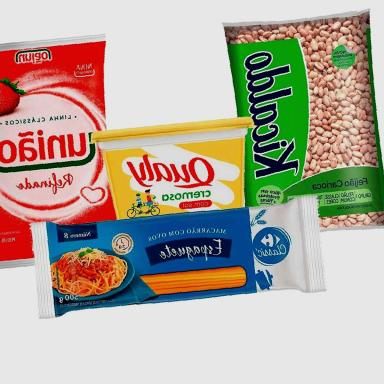beans package: (225, 11, 383, 228)
pasta package: (32, 197, 325, 318)
